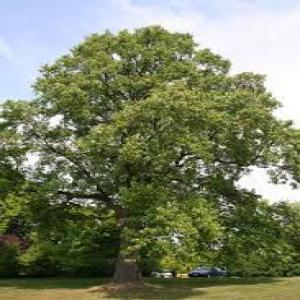Tree: (3, 21, 297, 287)
